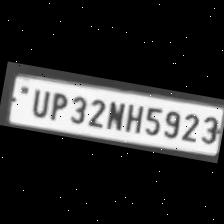2: (176, 108, 202, 143), (84, 94, 108, 128)
3: (196, 111, 221, 147), (64, 90, 89, 124)
5: (140, 102, 164, 136)
9: (158, 104, 182, 140)
H: (122, 99, 145, 135)
N: (103, 96, 126, 132)
P: (44, 88, 69, 122)
U: (26, 84, 52, 118)
